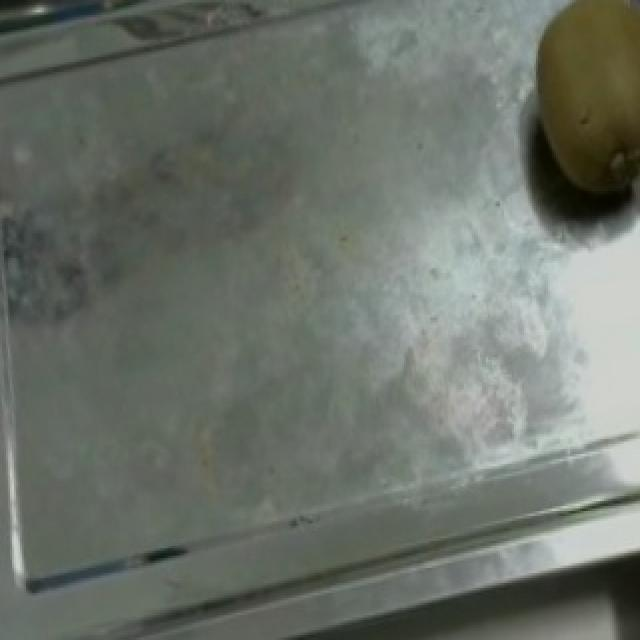Fruit: (502, 0, 640, 238)
